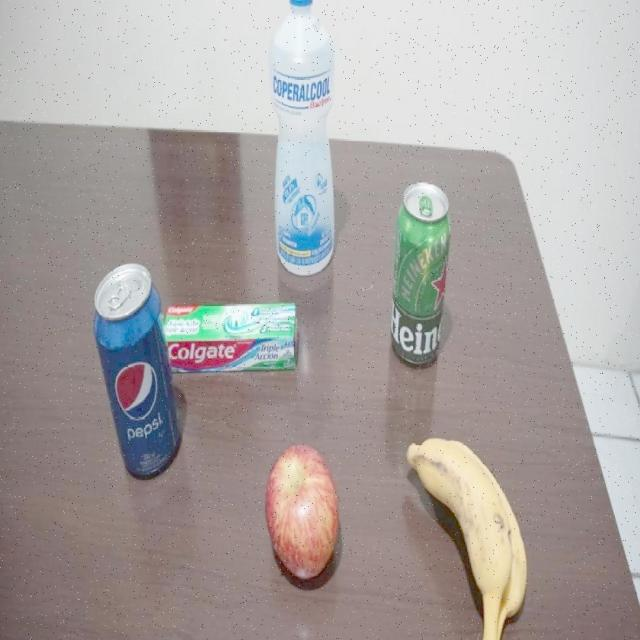AlcoholBottle: (268, 0, 335, 279)
Apple: (262, 444, 342, 585)
Banana: (403, 435, 534, 640)
BeerCan: (387, 177, 452, 373)
SodaCan: (90, 261, 182, 483)
Toothpaste: (162, 300, 302, 377)
